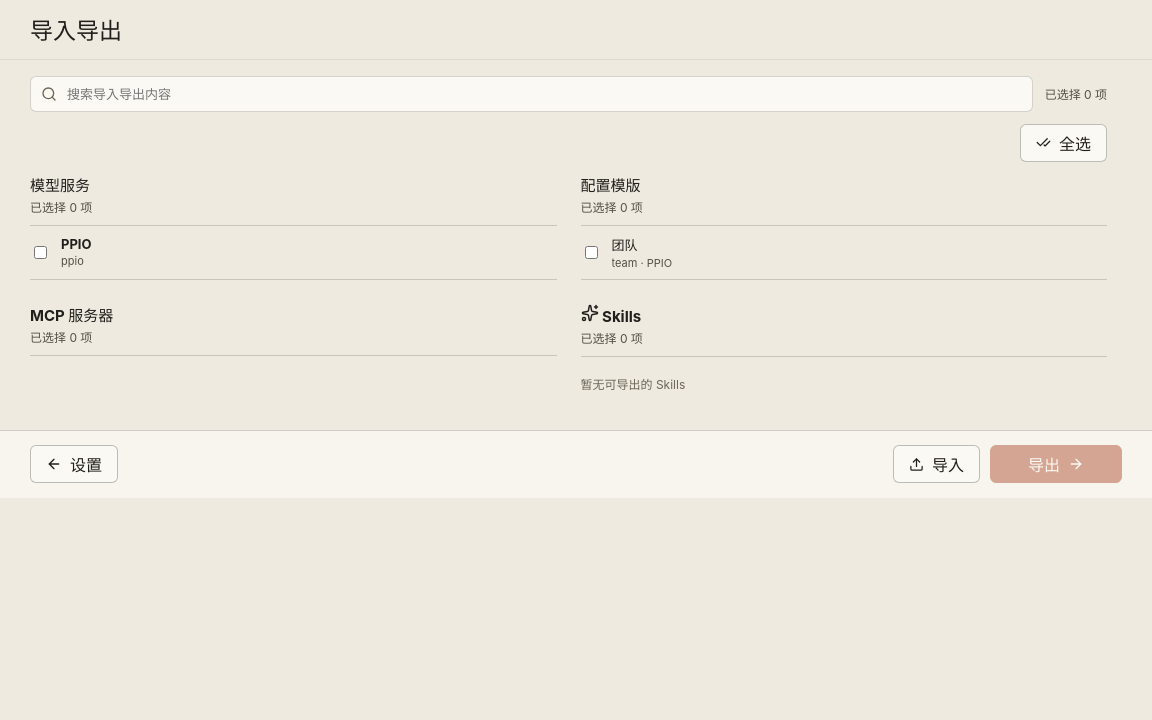
Test: TransferPage › filters transfer rows by provider, profile, and stable id
Step 1. Type "团队" into the field labelled "搜索导入导出内容" → (543, 94), box [65,85,1022,103]
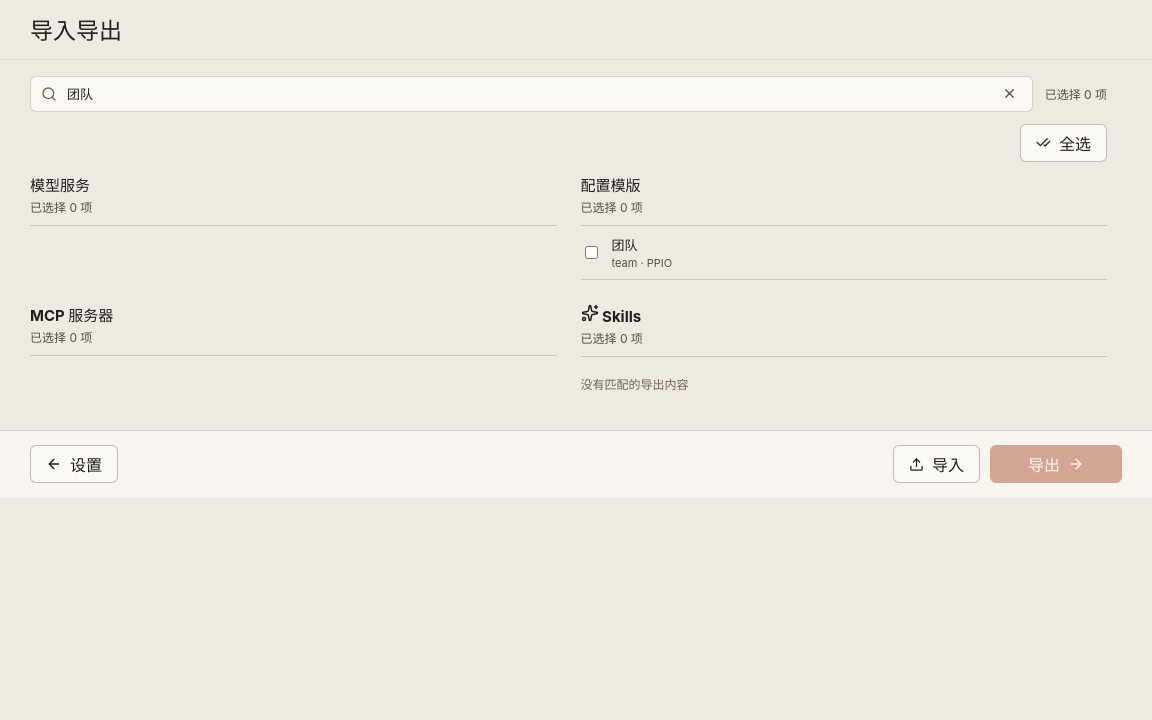
Expected: the checkbox labelled "团队 team · PPIO" is shown, [584,246,598,259]
Step 2. Replace the text in the field named "搜索导入导出内容" with "不存在的条目" → (527, 94), box [65,85,990,103]
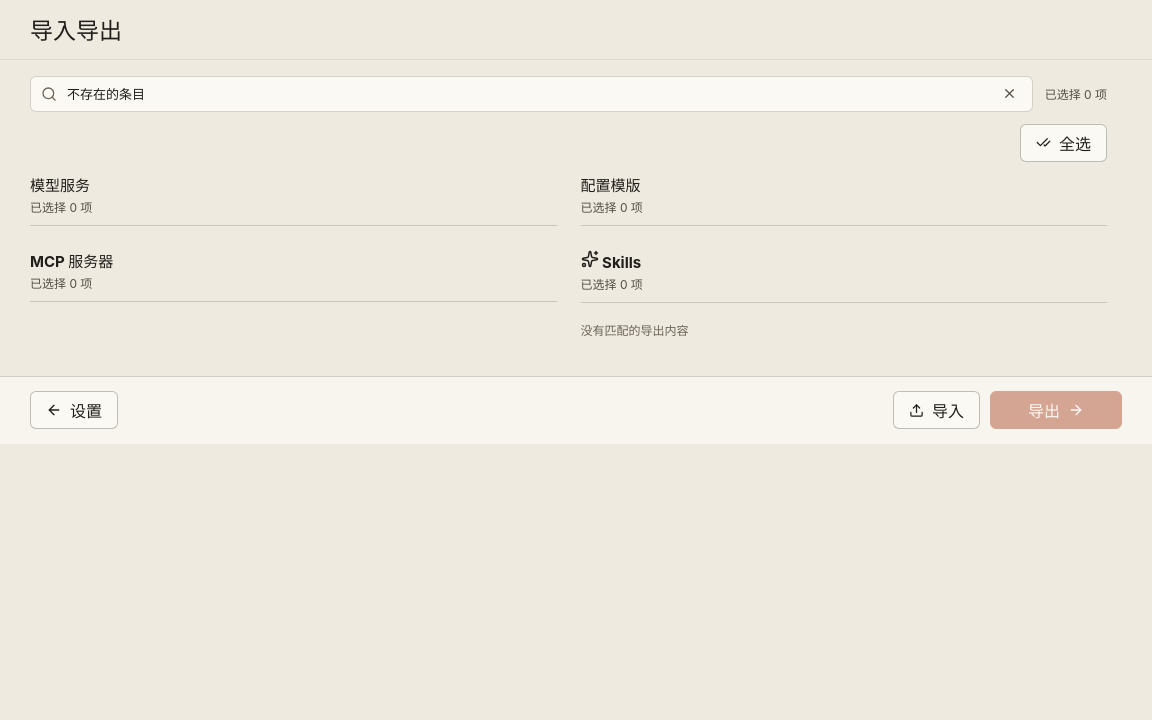
Expected: the text "团队" is gone
